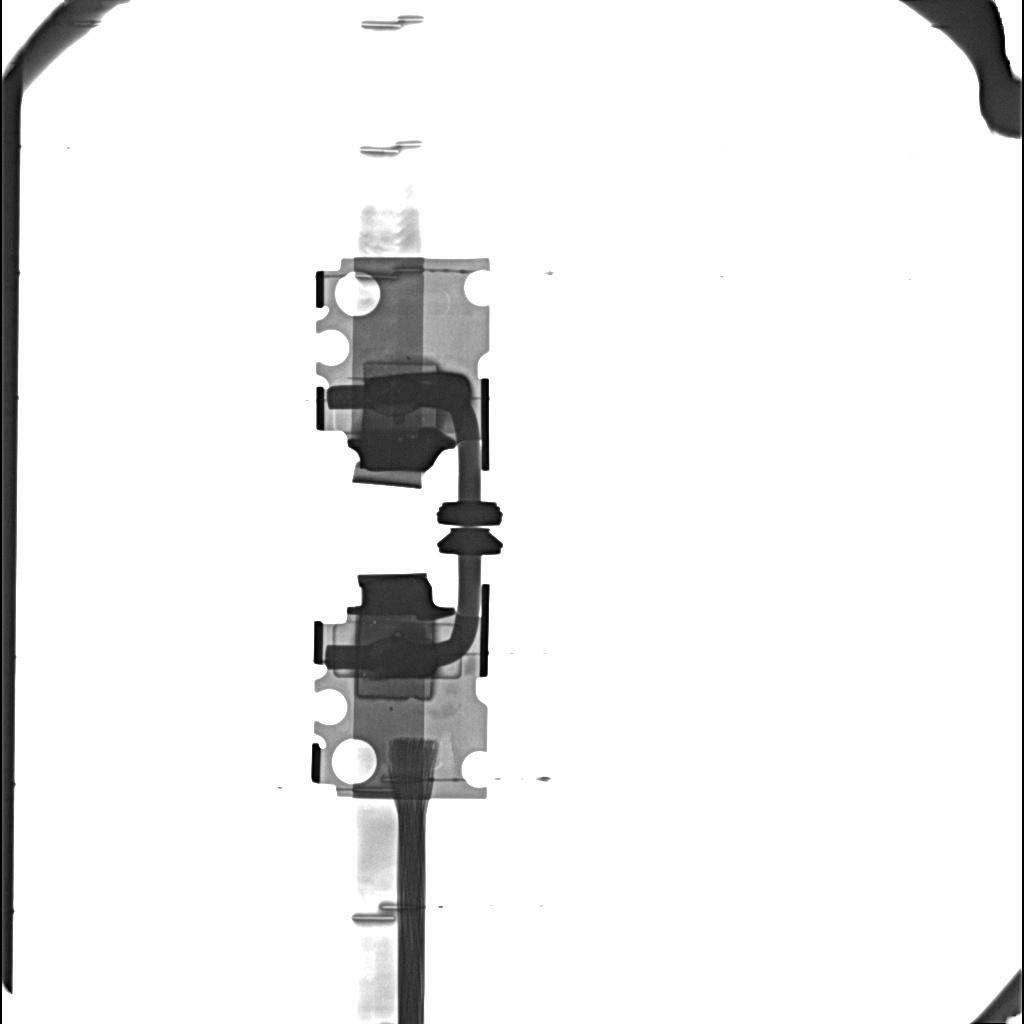PX: (357, 678, 433, 701), (362, 361, 439, 377)
SX: (365, 373, 470, 410), (360, 637, 435, 678)
